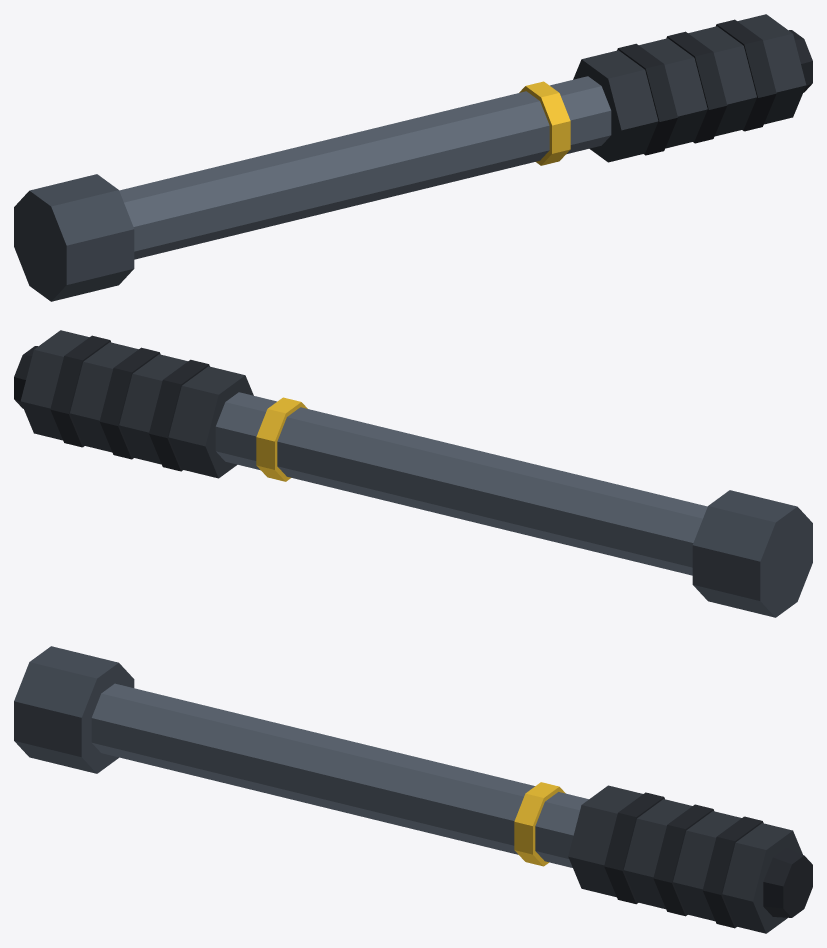
File: barrel_ported.glb
3 renders of one model, top to bottom at view 1: azimuth 30°, elevation 25°; view 2: azimuth 150°, elevation 25°; view 3: azimuth 330°, elevation 25°, orthographic.
Parts seen in each view (by area): view 1: barrel_ported; view 2: barrel_ported; view 3: barrel_ported.
Boxes of the visible parts, x1,y1,x2,y2 form: barrel_ported: (14,14,812,301); barrel_ported: (14,330,812,617); barrel_ported: (14,646,812,933).
Size of the model in its own units: 0.246 by 0.0296 by 0.0312.
